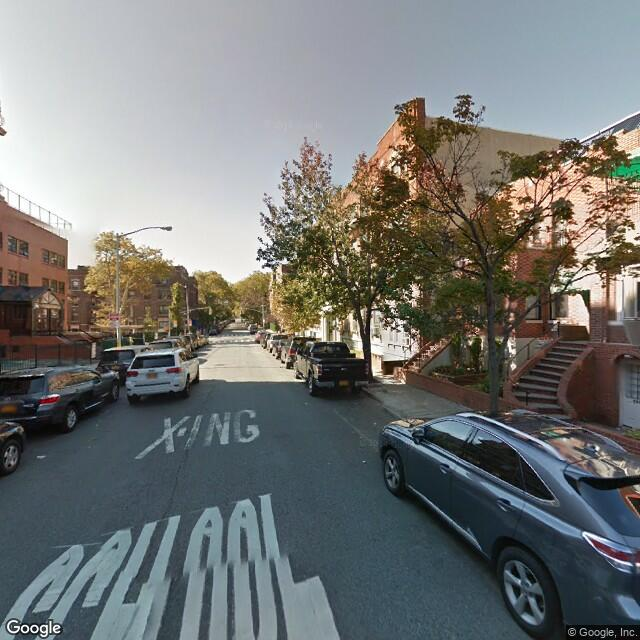litter: (34, 452, 48, 460), (361, 457, 368, 463), (303, 399, 307, 401)
